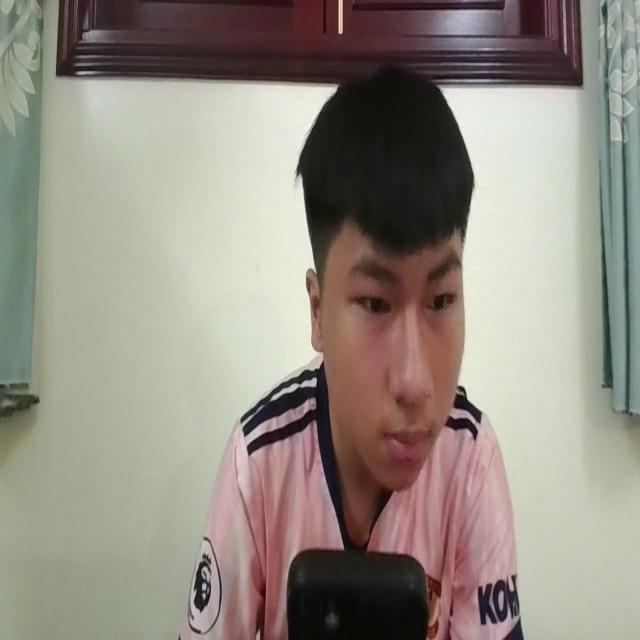phone: (283, 539, 423, 640)
student: (196, 68, 522, 640)
